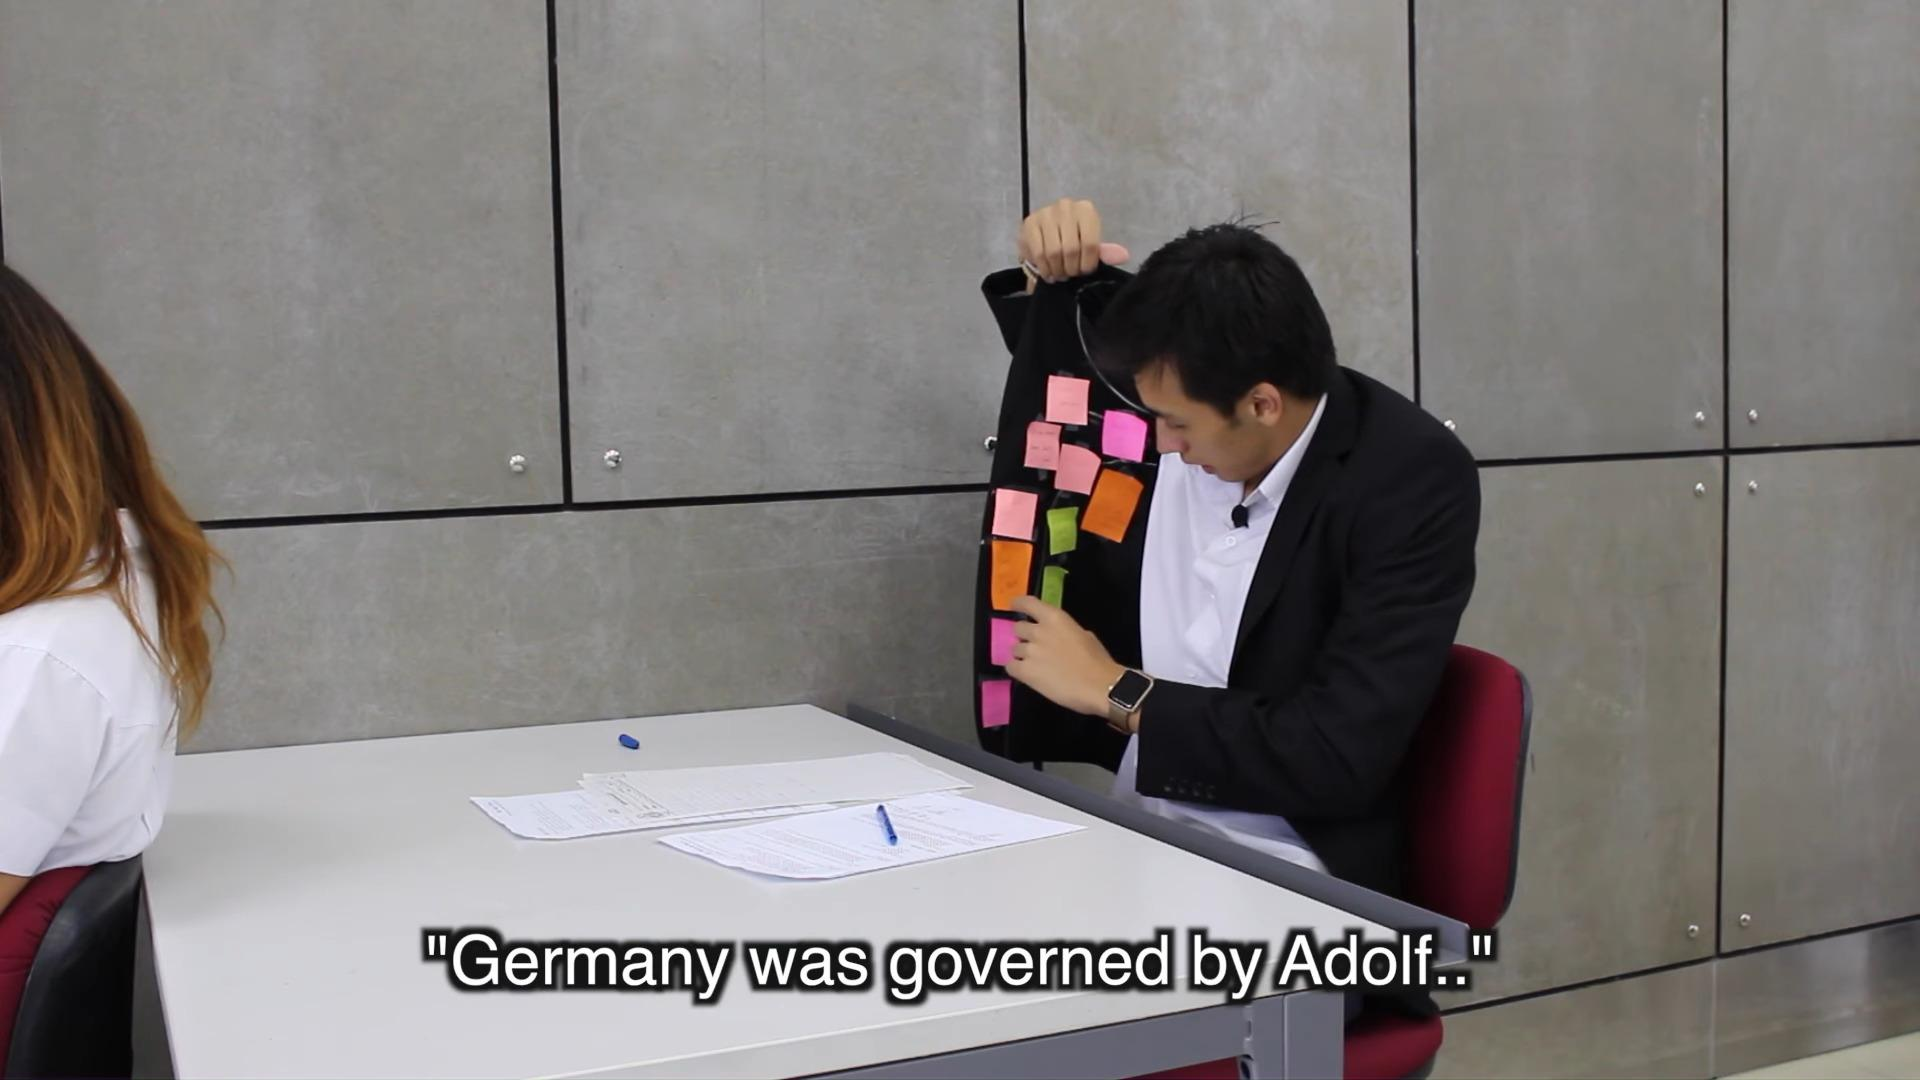cheating: (451, 158, 1513, 902)
